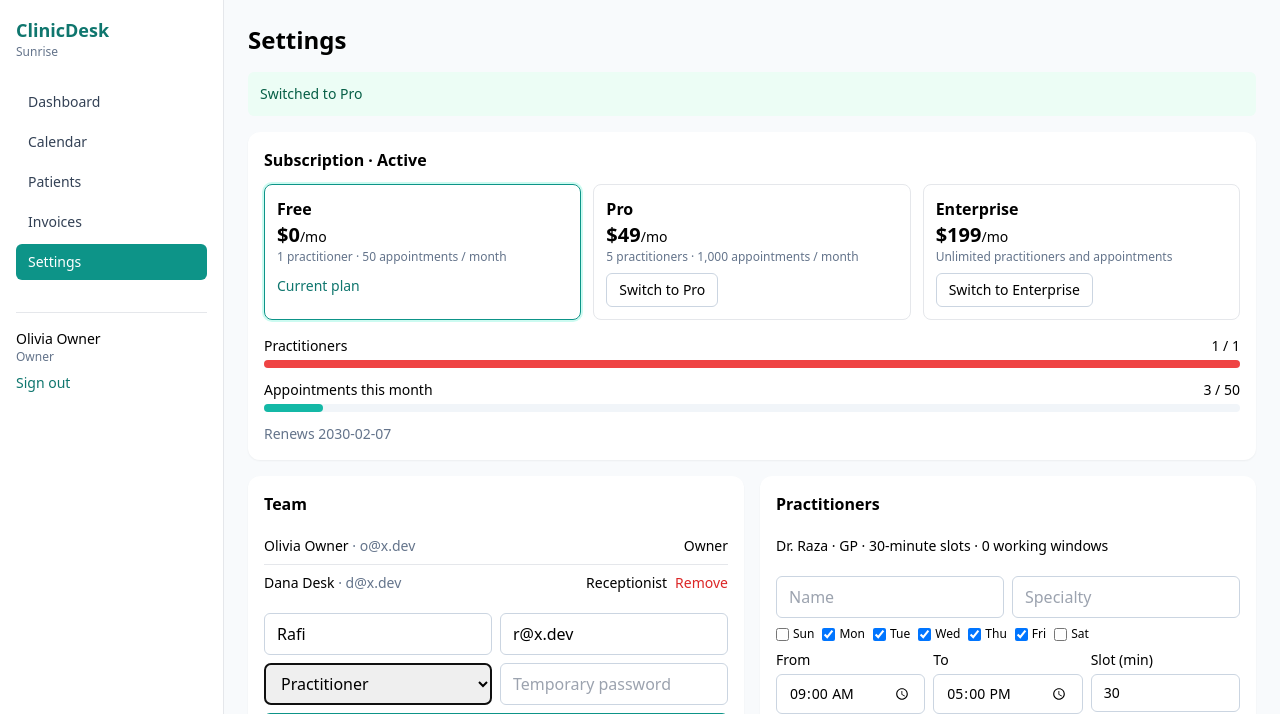
Scenario: settings › manages plan, team and practitioners
The width and height of the screenshot is (1280, 714).
Earlier steps of the test are not shown.
Type "Passw0rd!" into the password field labelled "Temporary password" at [614, 684], box [500, 663, 728, 705]
(page scrolled)
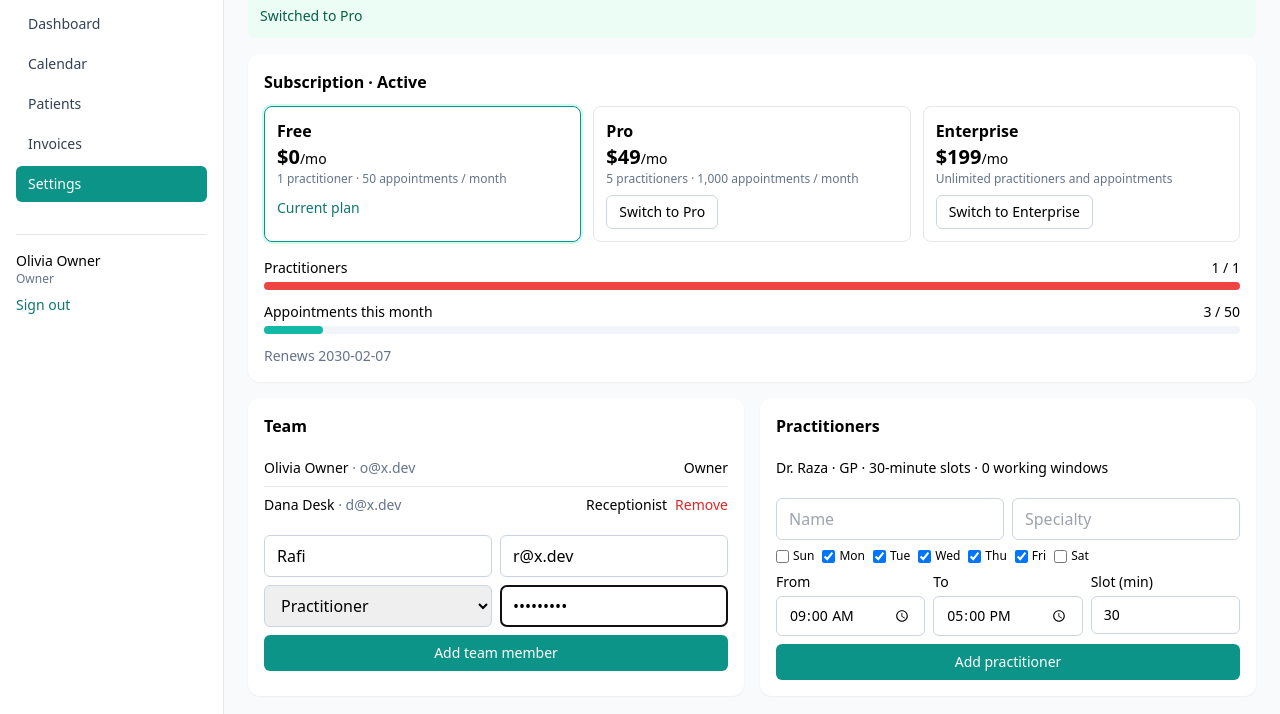
Click the button "Add team member" at [496, 653], box [264, 635, 728, 671]
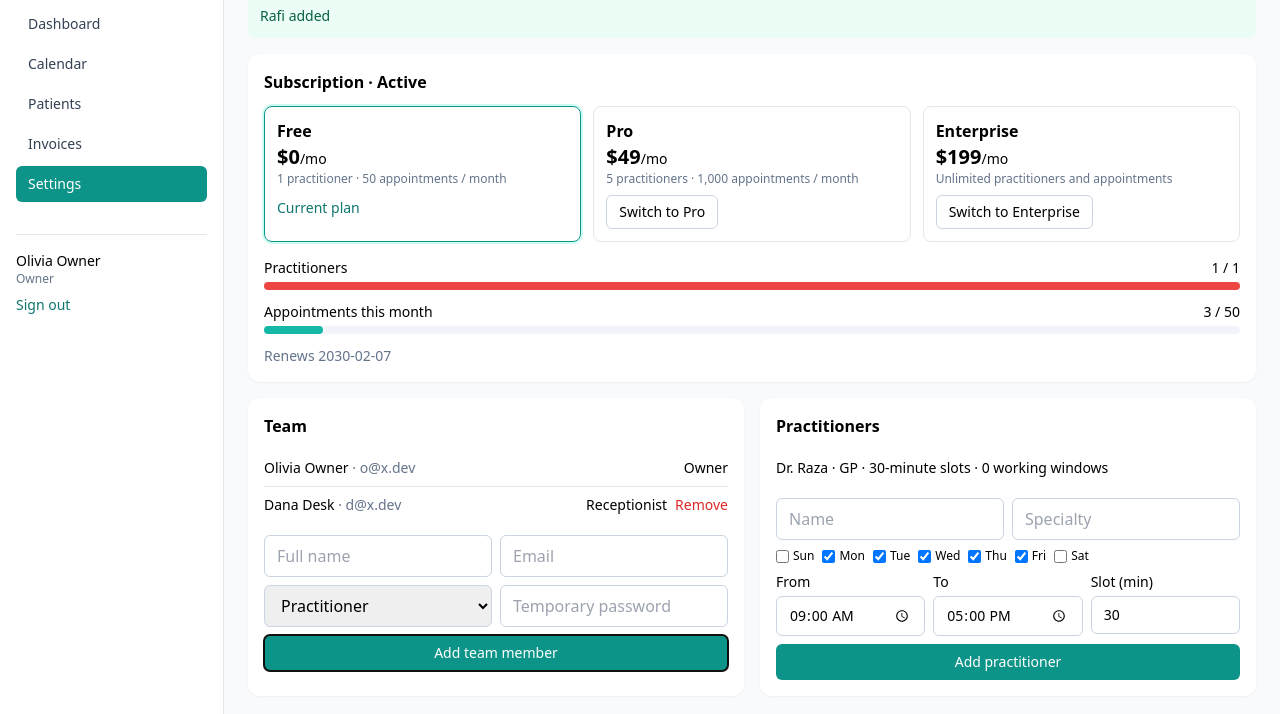
Click the button "Remove" at [702, 505], box [675, 495, 728, 515]
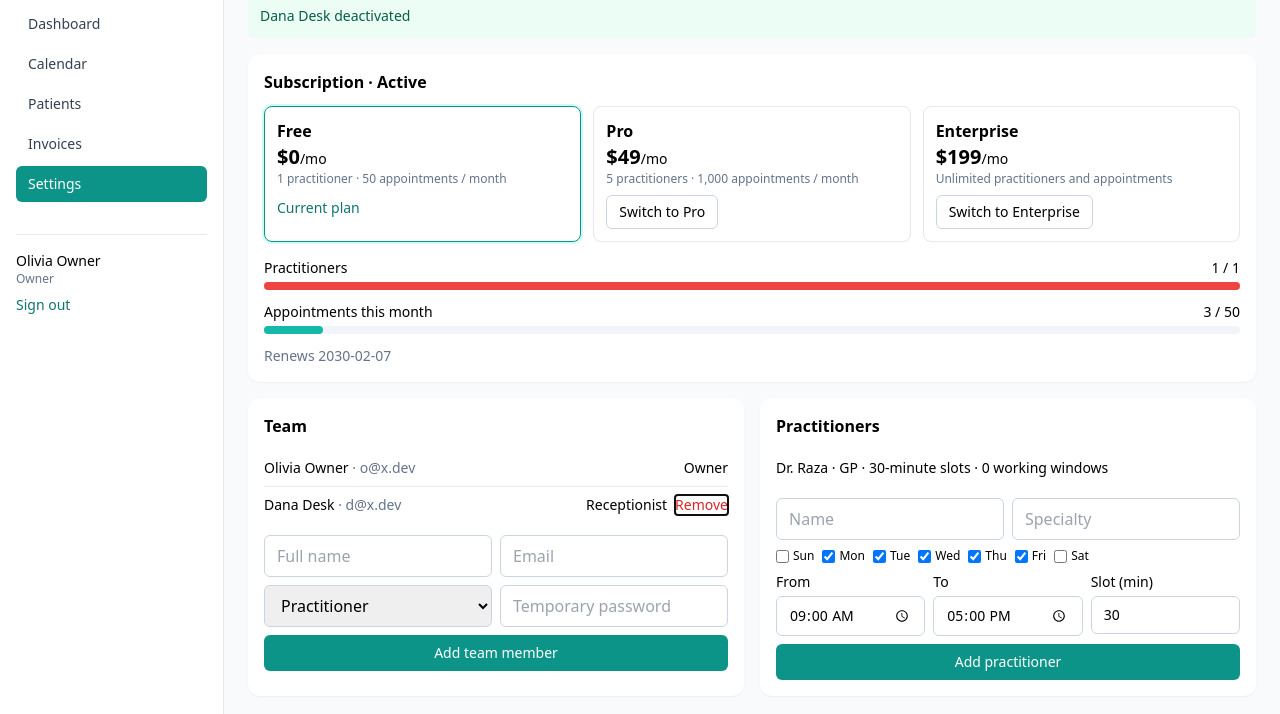
Type "Dr. New" into the field named "Practitioner name" at [890, 519], box [776, 498, 1004, 540]
Type "Skin" into the field labelled "Specialty" at [1126, 519], box [1012, 498, 1240, 540]
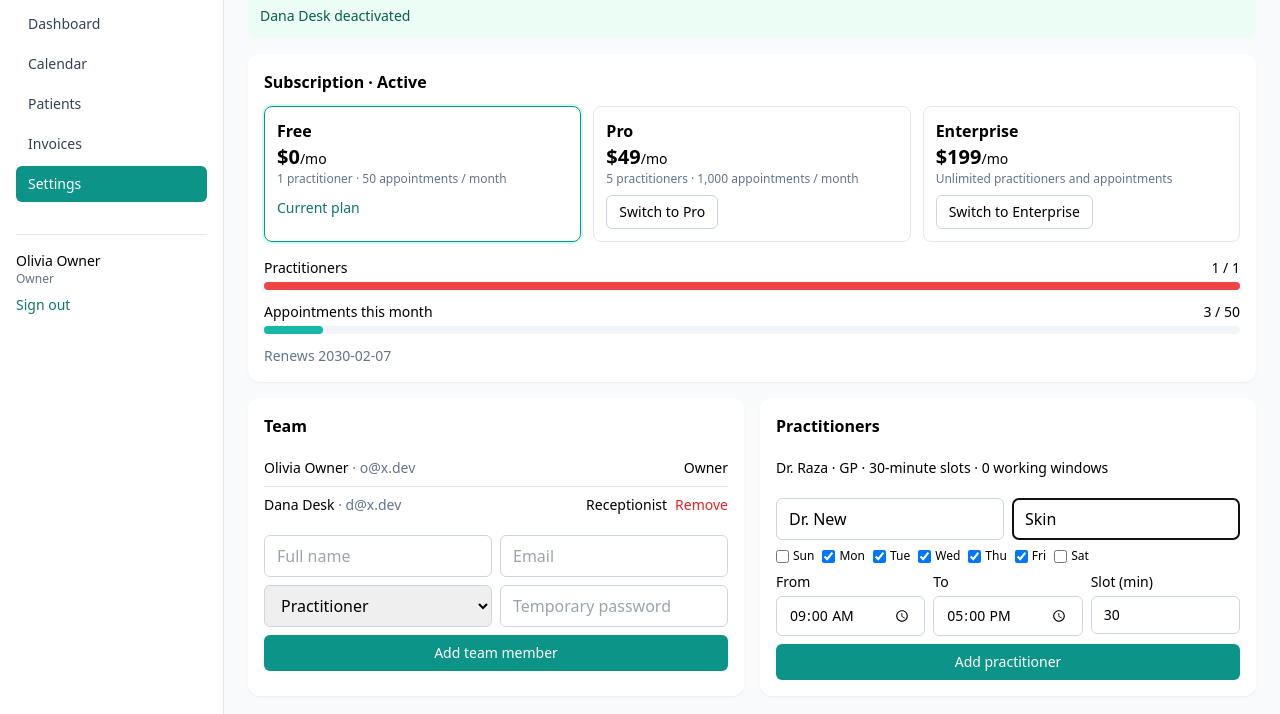
Click the checkbox labelled "Sat" at [1061, 556], box [1054, 550, 1067, 562]
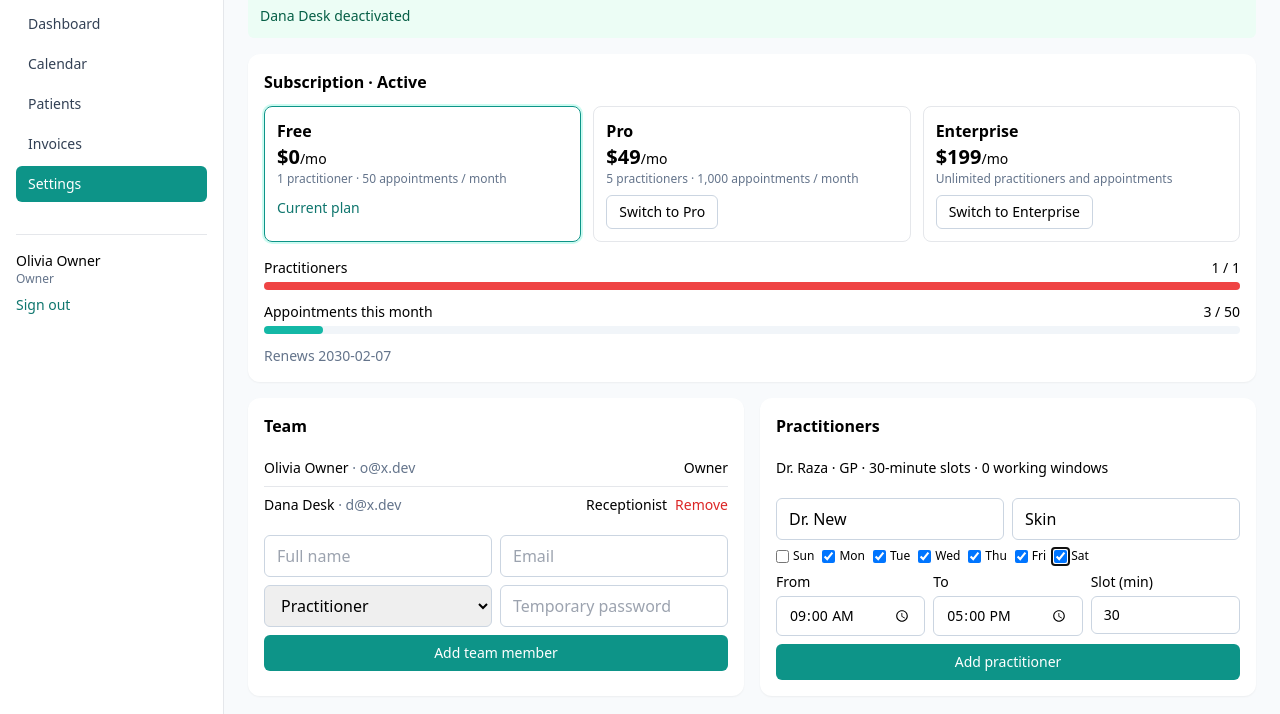
Click the button "Add practitioner" at [1008, 662], box [776, 644, 1240, 680]
(page scrolled)
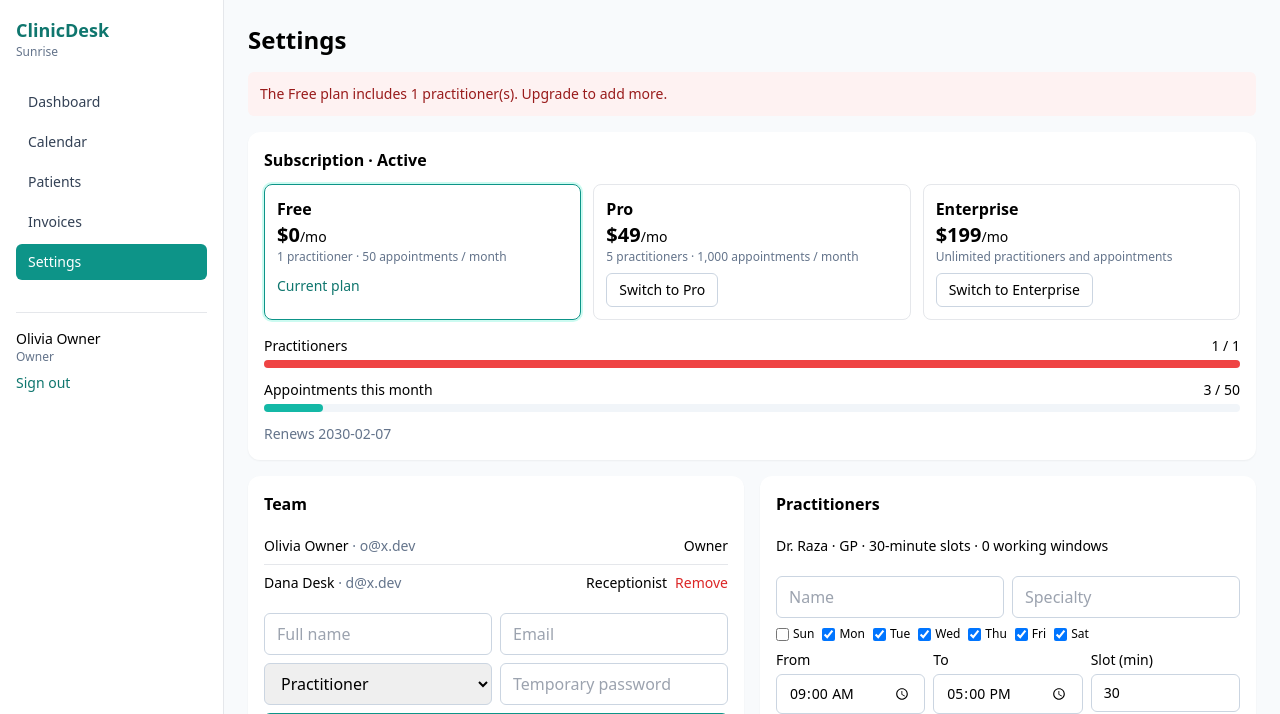
Expected: the message shows "Upgrade to add more", [260, 84, 667, 103]
